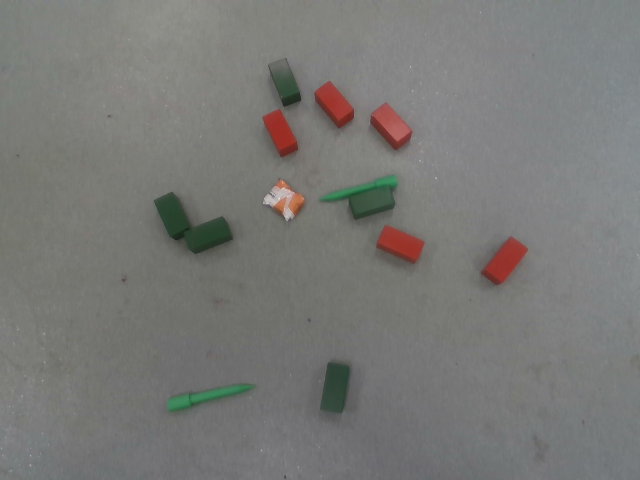Probe: (164, 381, 258, 414), (317, 172, 398, 202)
